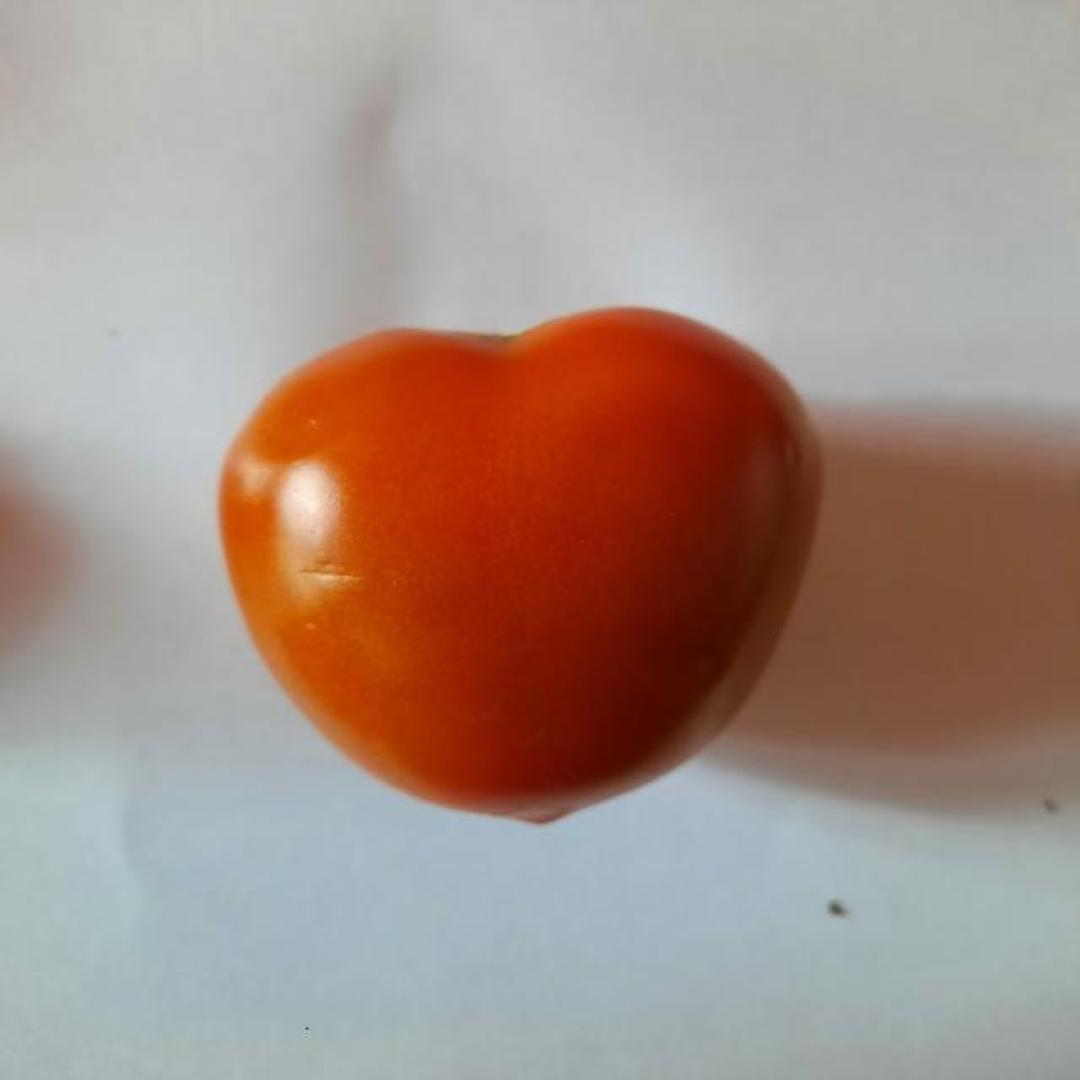matang: (218, 307, 822, 829)
